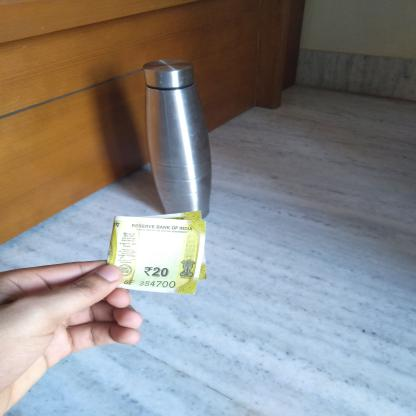New20Front: (109, 216, 201, 294)
